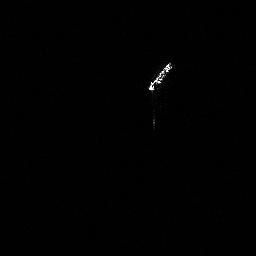ship: (144, 58, 176, 94)
